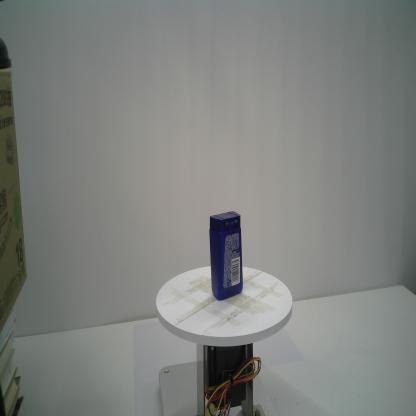Personal Hygiene: (209, 211, 243, 301)
